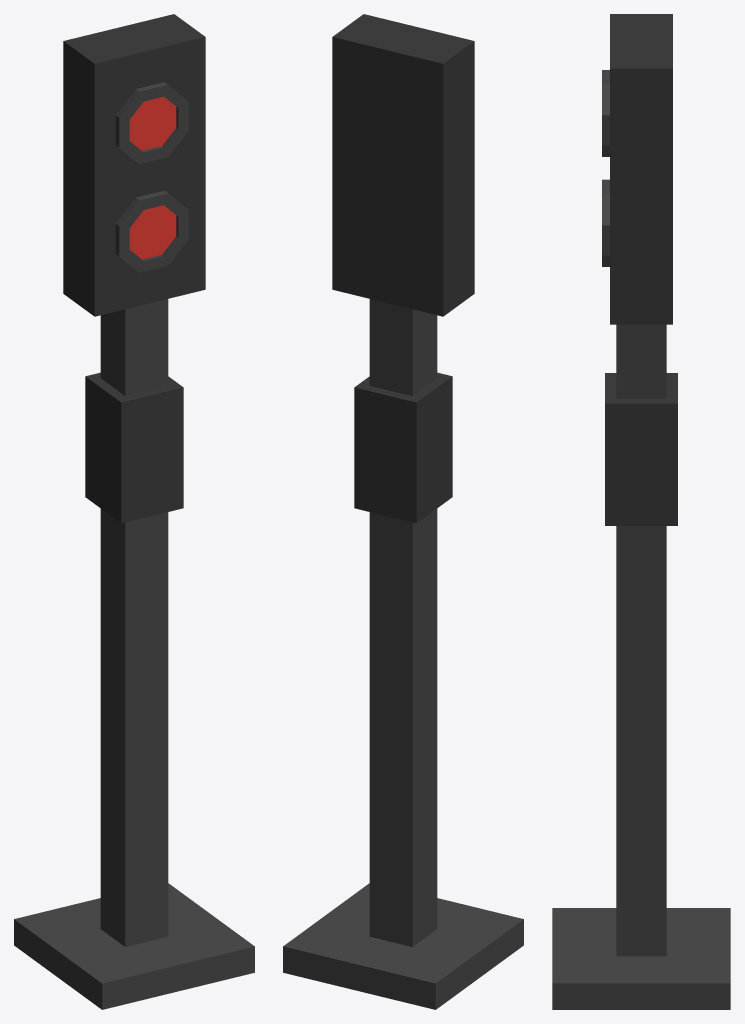
The model's file is TrafficLight_01.fbx.
The picture shows the model from 3 angles, left to right: view 1: azimuth 30°, elevation 25°; view 2: azimuth 150°, elevation 25°; view 3: azimuth 270°, elevation 25°; orthographic projection.
Visible parts, largest first — view 1: TrafficLight_01; view 2: TrafficLight_01; view 3: TrafficLight_01.
Part boxes in pixels (bbox=[...]): TrafficLight_01: bbox=[14, 14, 254, 1009]; TrafficLight_01: bbox=[283, 14, 523, 1009]; TrafficLight_01: bbox=[552, 14, 730, 1009].
Size of the model in its own units: 24.03 by 138 by 24.03.
